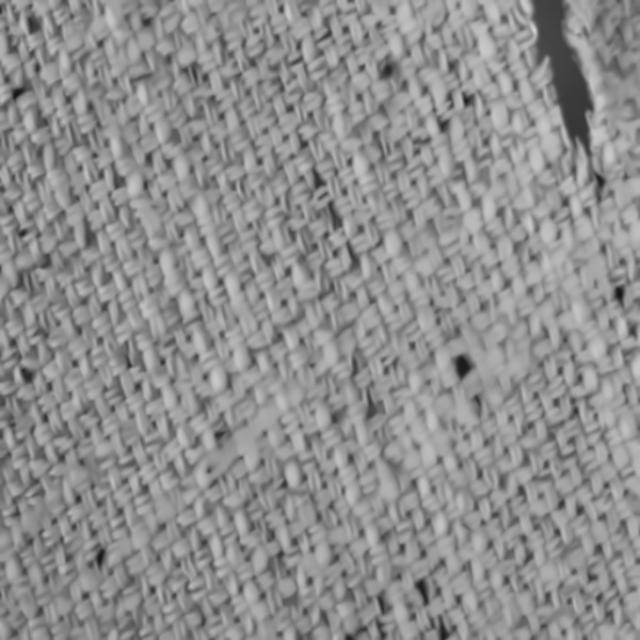seam: (494, 4, 624, 208), (421, 335, 504, 415), (350, 48, 416, 100)
